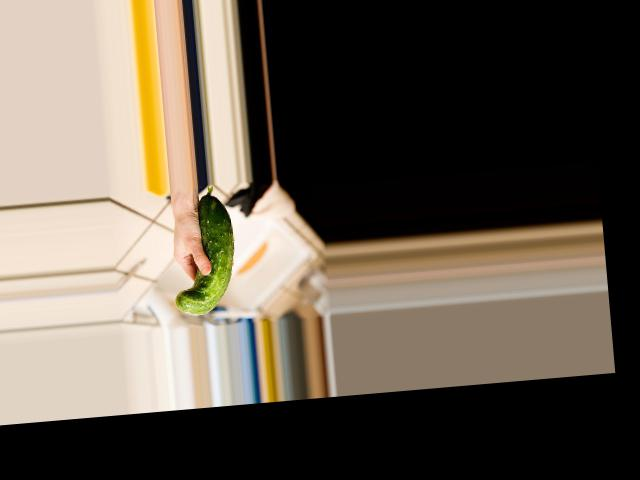cucumber: (166, 184, 241, 317)
